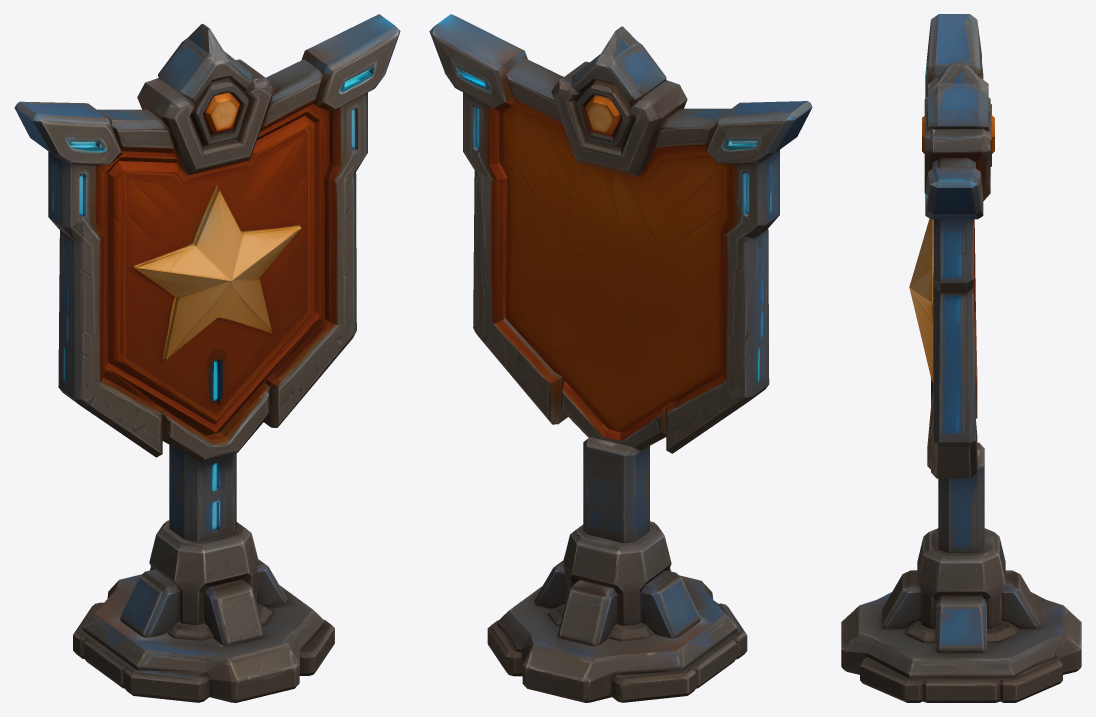
The model's file is Flag.fbx.
The picture shows the model from 3 angles, left to right: view 1: azimuth 30°, elevation 25°; view 2: azimuth 150°, elevation 25°; view 3: azimuth 270°, elevation 25°; orthographic projection. The views are drawn at different scales.
Visible parts, largest first — view 1: texture_pbr_v128; view 2: texture_pbr_v128; view 3: texture_pbr_v128.
Part boxes in pixels (bbox=[...]): texture_pbr_v128: bbox=[14, 14, 400, 702]; texture_pbr_v128: bbox=[429, 14, 812, 702]; texture_pbr_v128: bbox=[841, 14, 1081, 702].
Size of the model in its own units: 1.17 by 1.9 by 0.6971.
1 material, 1 textured.
